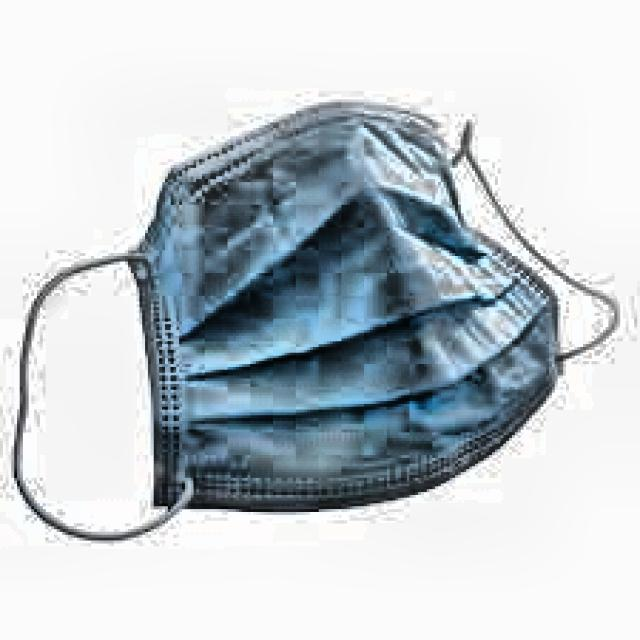trash: (110, 98, 569, 518)
